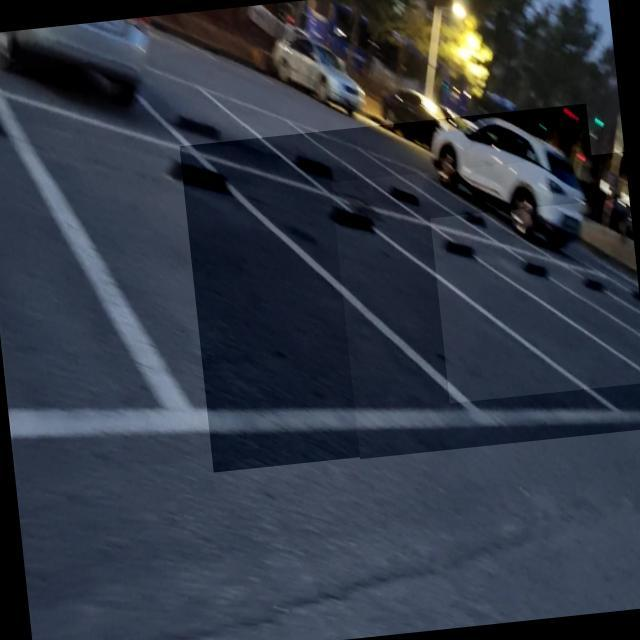empty: (0, 25, 484, 480), (179, 103, 620, 472), (331, 151, 640, 458), (430, 197, 640, 403)
